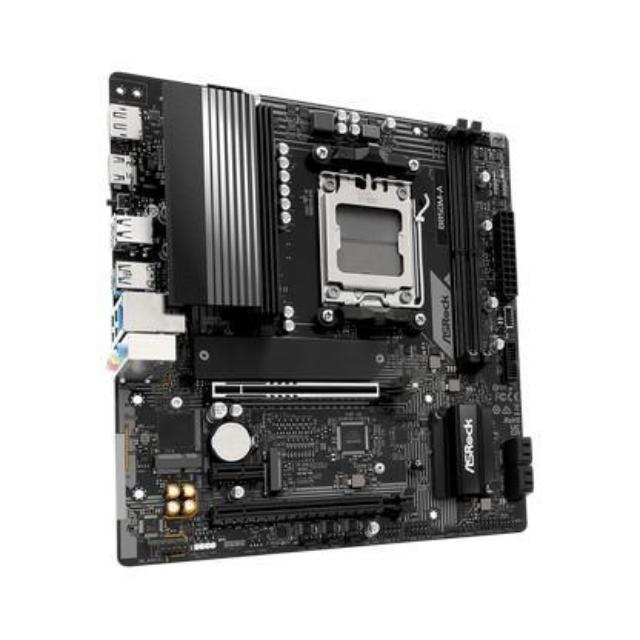Mainboard: (100, 58, 545, 582)
